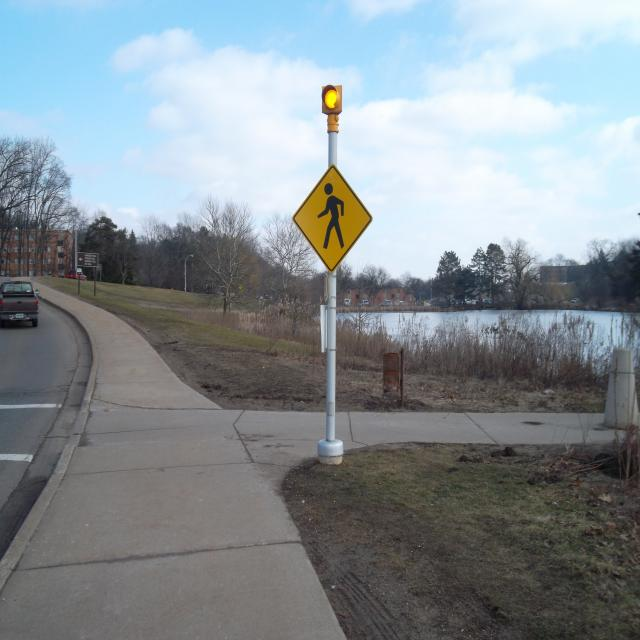warning: (288, 162, 377, 276)
